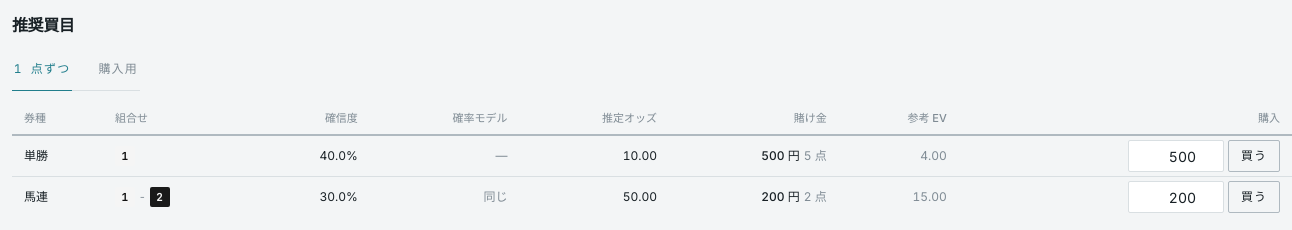
Scenario: RecommendationsCard › disables buy button when manually-entered stake is below 100
# 50 → snaps to 0 → buy disabled
Replace the text in the number field named "賭け金 (円, 100 円単位)" in the row of "単勝" with "50" at (1176, 156), box left=1128, top=140, right=1224, bottom=172
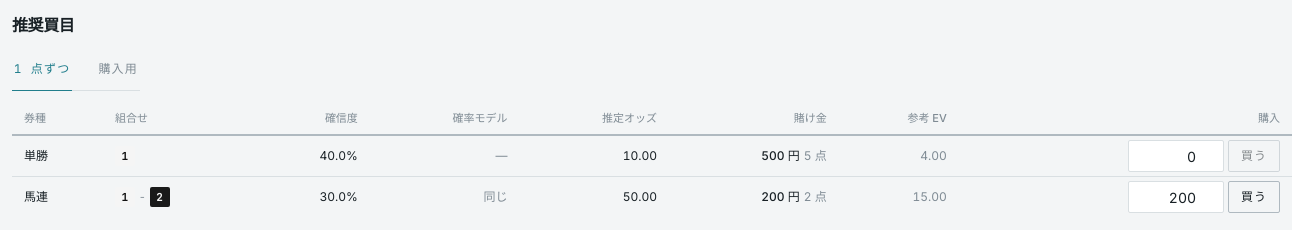
Check: the button "買う" in the row of "単勝" is disabled, box left=1228, top=140, right=1280, bottom=172
